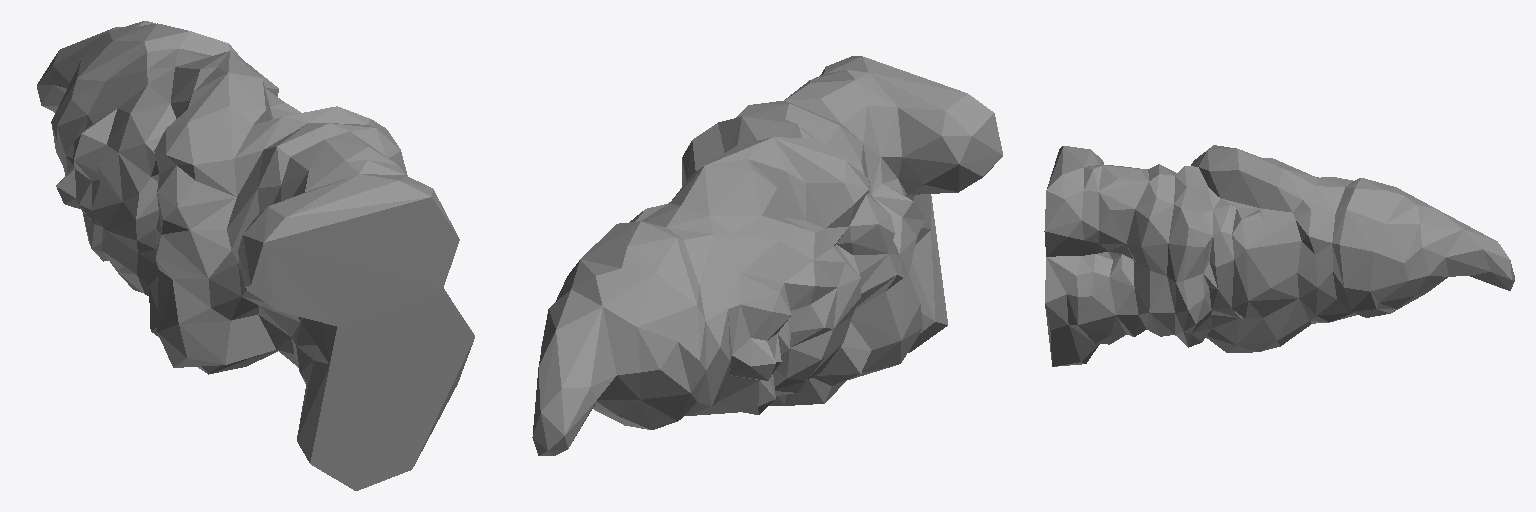
URDF robot description (cube.urdf):
<?xml version="0.0" ?> 
<robot name="cube.urdf"> 
<link name="legobrick"> 
<contact> 
<lateral_friction value="1.0"/>
<rolling_friction value="0.0"/>
<contact_cfm value="0.0"/>
<contact_erp value="1.0"/>
</contact> 
<inertial> 
<origin rpy="0 0 0" xyz="0.0 0.0 0.0"/> 
<mass value="0.1"/> 
<inertia ixx="1" ixy="0" ixz="0" iyy="1" iyz="0" izz="1"/> 
</inertial> 
<visual> 
<origin rpy="1.570796 0 0" xyz="0.000914220843672457 0.007470724565756818 -0.0021311240694789017"/> 
<geometry> 
<mesh filename="Dwarf_800_tex.obj" scale="1 1 1"/> 
</geometry> 
<material name="yellow"> 
<color rgba="0.6 0.6 0.6 1"/> 
</material> 
</visual> 
<collision> 
<origin rpy="1.570796 0 0" xyz="0.000914220843672457 0.007470724565756818 -0.0021311240694789017"/> 
<geometry> 
<mesh filename="Dwarf_800_tex_col.obj" scale="1 1 1"/> 
</geometry> 
</collision> 
</link> 
</robot>

--- Facts derived from the render (not from the file) ---
3 views of the same robot in one strip: view 1: azimuth 30°, elevation 25°; view 2: azimuth 150°, elevation 25°; view 3: azimuth 270°, elevation 25° (orthographic).
Model cube.urdf with 1 links and 0 joints (none), rooted at legobrick, posed every joint at zero.
Links seen in each view (by area): view 1: legobrick; view 2: legobrick; view 3: legobrick.
Link boxes in pixels (bbox=[...]): legobrick: bbox=[37, 21, 474, 490]; legobrick: bbox=[532, 56, 1002, 455]; legobrick: bbox=[1044, 145, 1514, 366].
Bounding box of the posed robot: 0.0377 × 0.0908 × 0.045 m (x, y, z).
Meshes: 1 distinct files referenced, 1 mesh visuals loaded (1 OBJ).